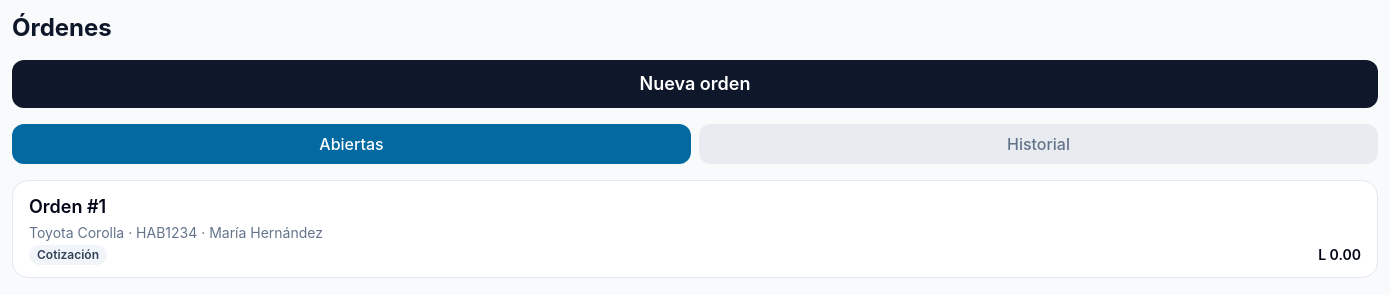
it: WorkOrdersPage › renders the Abiertas tab by default, and the Historial tab's own orders on tap
Expected: the text "Orden #1" is shown, 29,193 -> 106,221
Expected: the text "Orden #2" is not shown
Click the tab "Historial" at (1038, 144), box 699,124 -> 1378,164
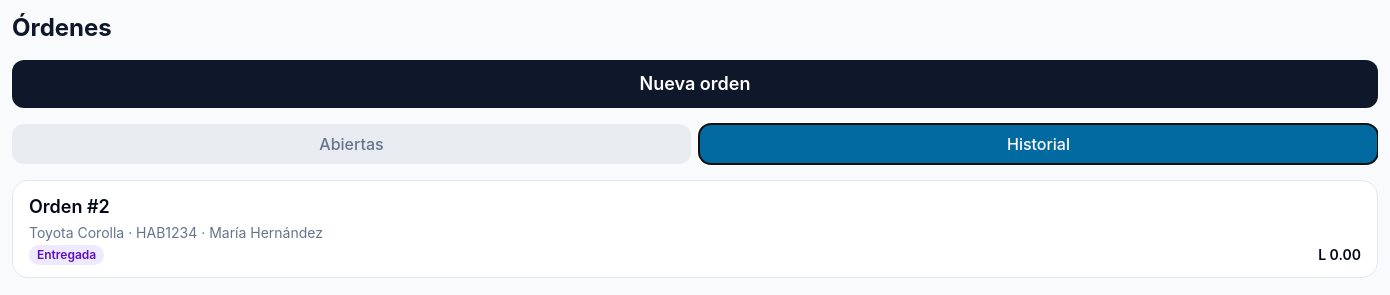
Now the text "Orden #2" is shown, box 29,193 -> 110,221
Now the button "Orden #1" is gone
